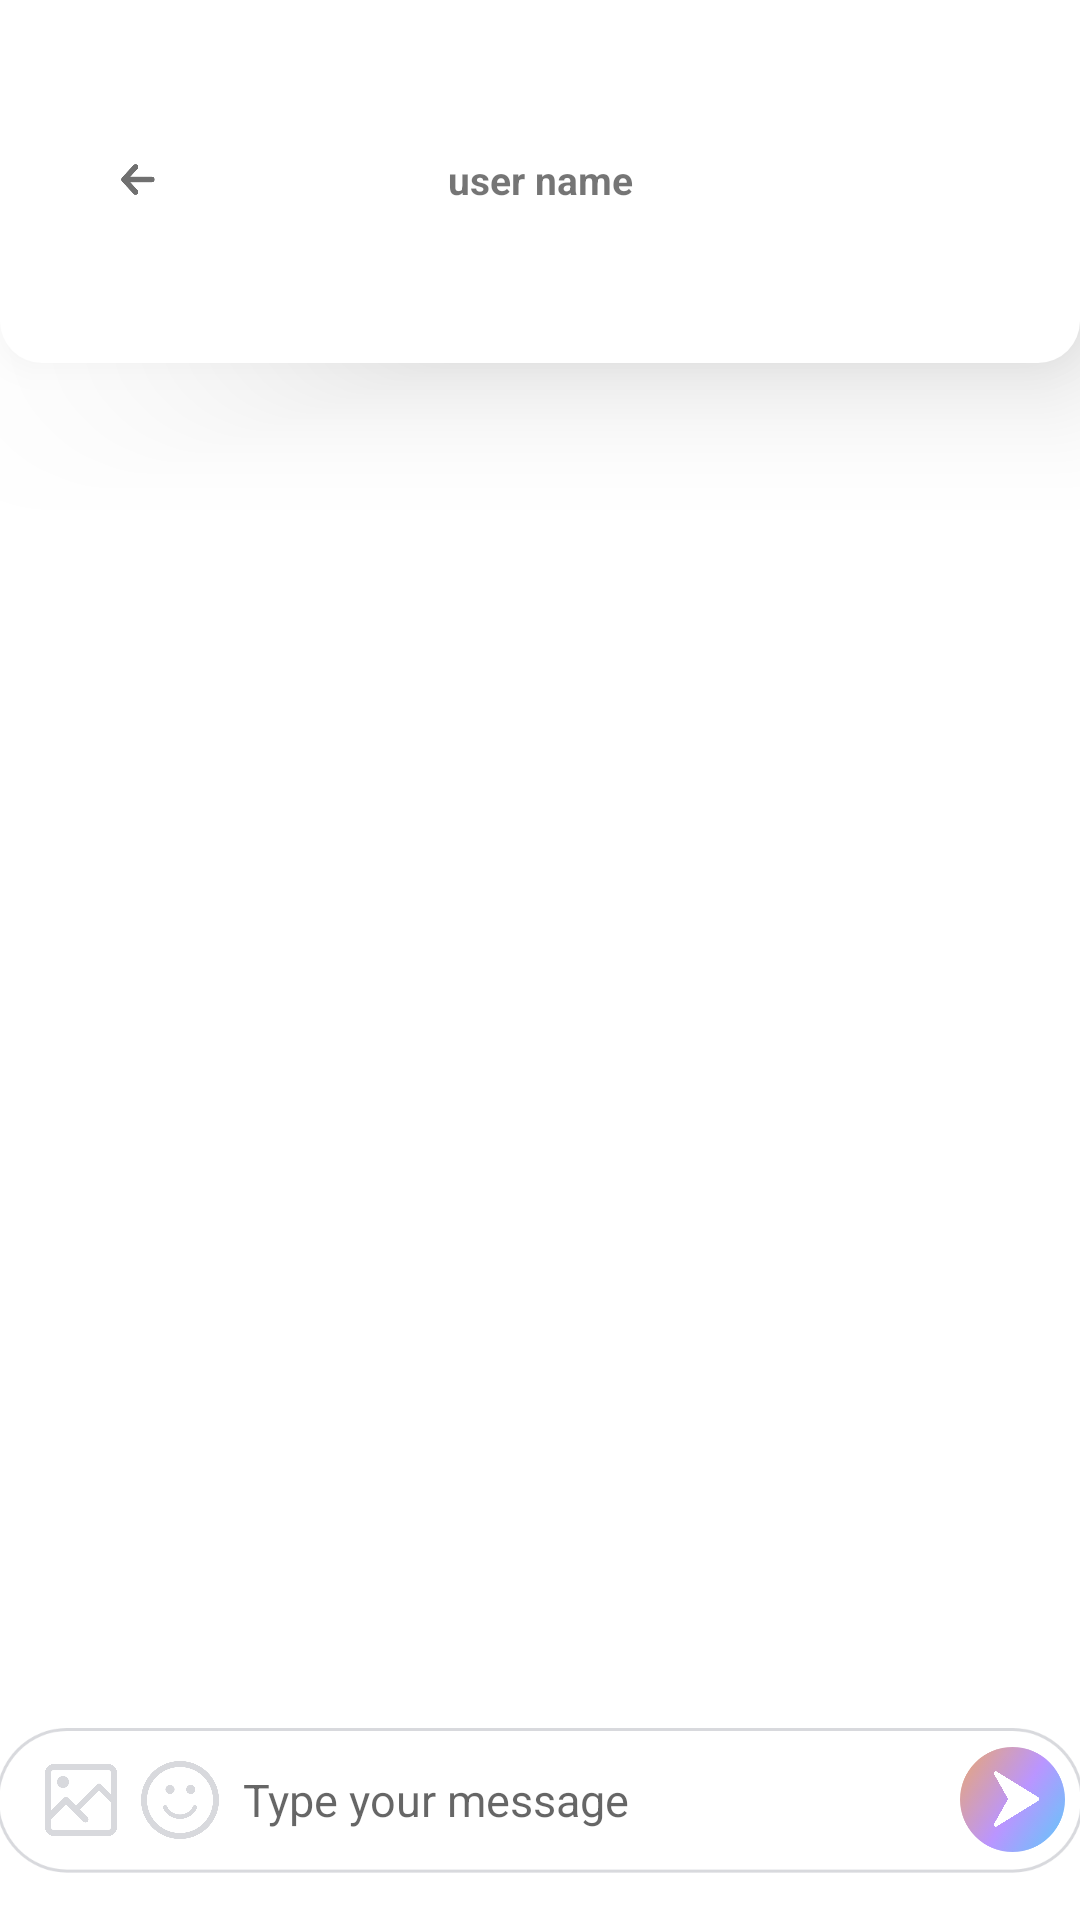

Icons on this 1080px x 1920px Android screen, each with the point to tap as point (x, y):
yj back: point (138, 179)
